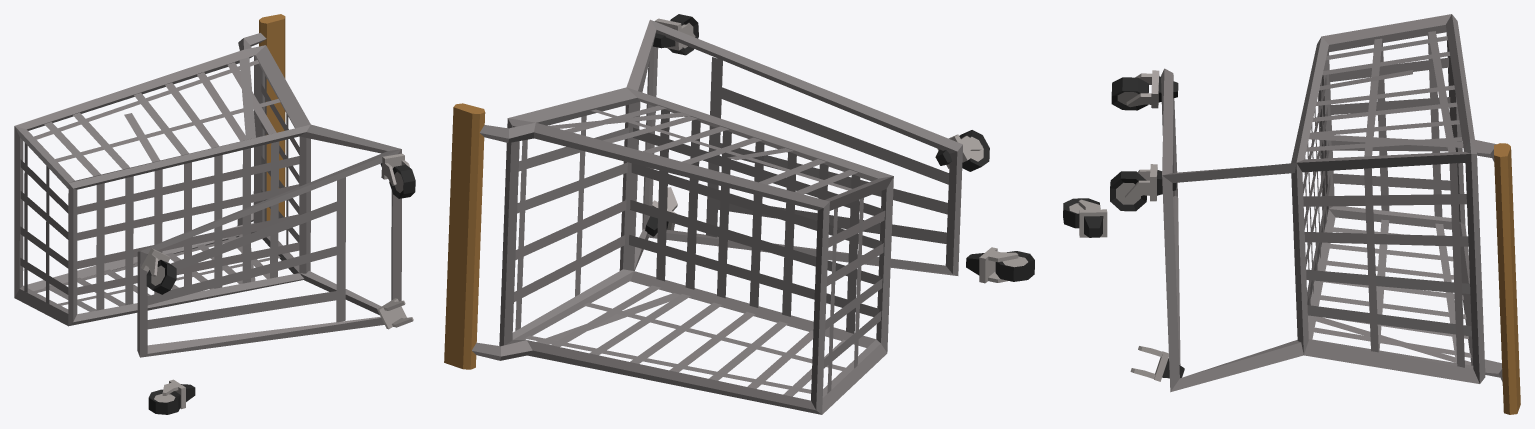
The model's file is apocalypse_shopping-trolley-destroyed.fbx.
3 renders of one model, left to right at view 1: azimuth 30°, elevation 25°; view 2: azimuth 150°, elevation 25°; view 3: azimuth 270°, elevation 25°, orthographic. The views are drawn at different scales.
Visible parts, largest first — view 1: apocalypse_shopping_trolley_destroyed; view 2: apocalypse_shopping_trolley_destroyed; view 3: apocalypse_shopping_trolley_destroyed.
Boxes of the visible parts, x1,y1,x2,y2 form: apocalypse_shopping_trolley_destroyed: (14, 14, 415, 414); apocalypse_shopping_trolley_destroyed: (444, 14, 1034, 414); apocalypse_shopping_trolley_destroyed: (1063, 14, 1520, 414).
Size of the model in its own units: 190 by 124 by 200.
